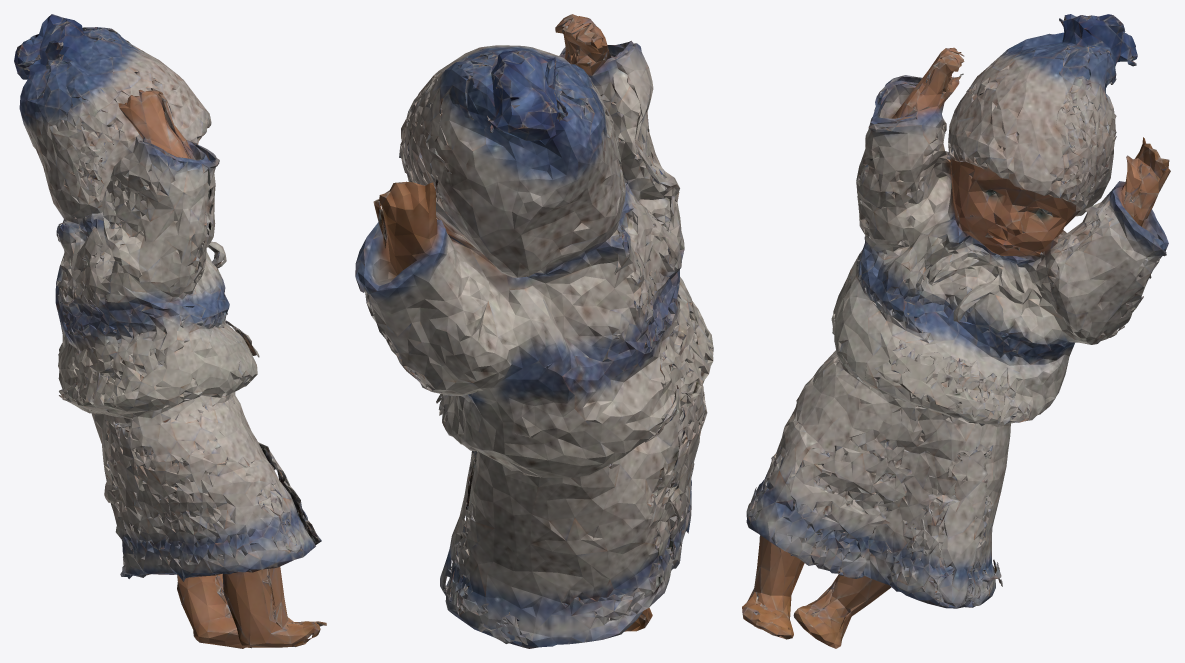
3 views of the same model, side by side, from view 1: azimuth 30°, elevation 25°; view 2: azimuth 150°, elevation 25°; view 3: azimuth 270°, elevation 25° (orthographic). The views are drawn at different scales.
Visible parts, largest first — view 1: Puppenkleidung_58k_512; view 2: Puppenkleidung_58k_512; view 3: Puppenkleidung_58k_512.
Boxes of the visible parts, bbox=[...] form: Puppenkleidung_58k_512: bbox=[14, 14, 326, 648]; Puppenkleidung_58k_512: bbox=[355, 14, 713, 648]; Puppenkleidung_58k_512: bbox=[742, 14, 1170, 648].
Size of the model in its own units: 0.1364 by 0.3873 by 0.2537.
Materials: 1 (1 with a texture image).
